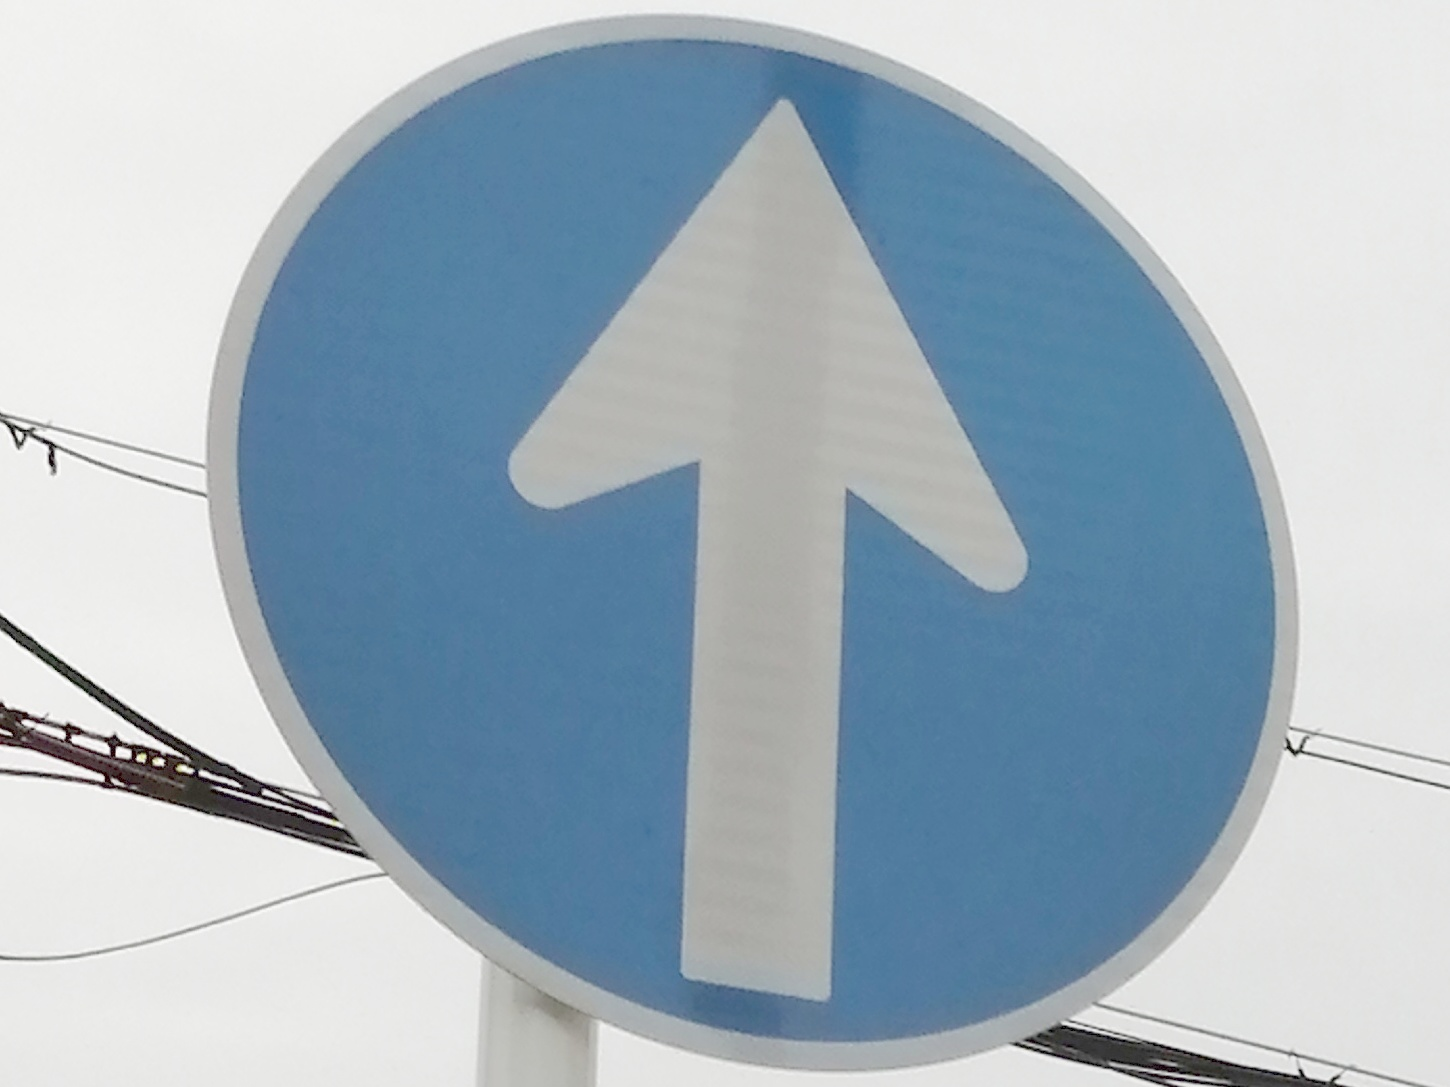Direction_sign: (178, 18, 1335, 1074)
